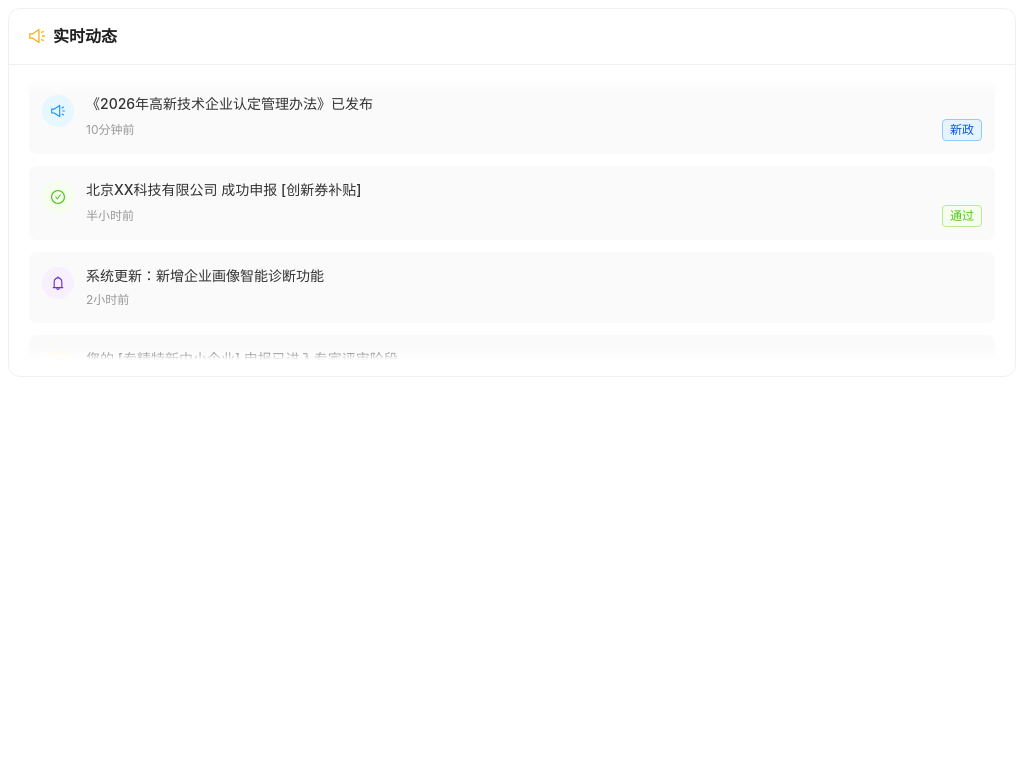
Test: SystemDynamicsSection › should open modal when clicking an item
The image size is (1024, 768).
# Click the first item
Click the text "《2026年高新技术企业认定管理办法》已发布": (230, 104) [86, 95, 373, 112]
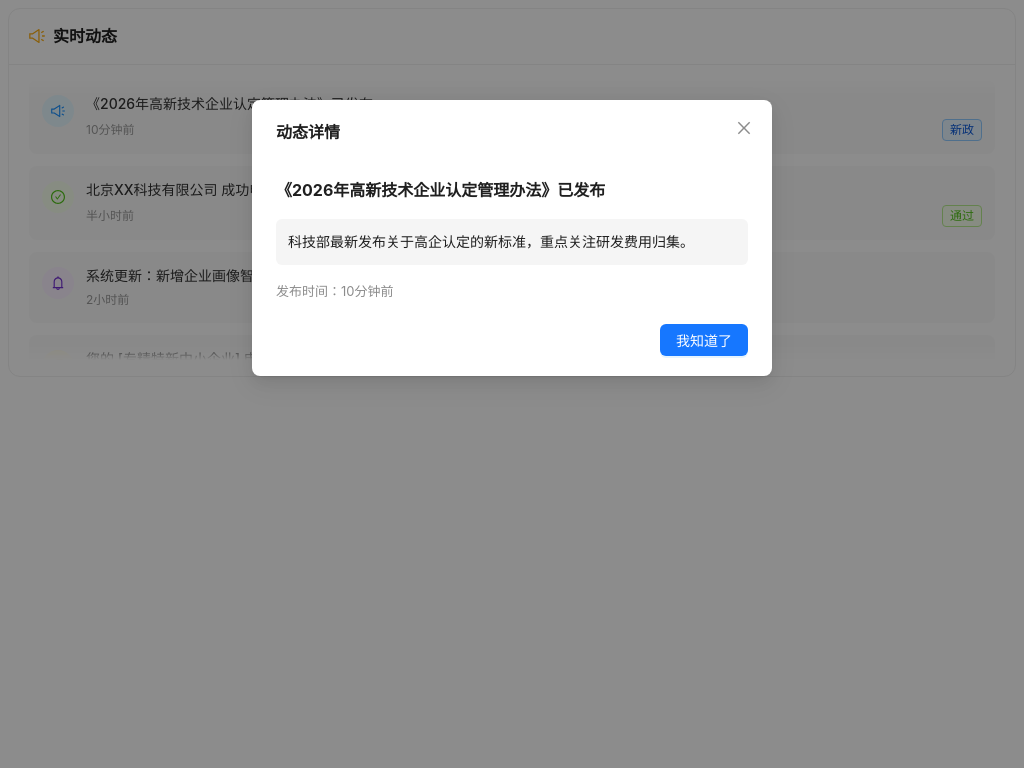
Expected: the text "动态详情" is shown, [276, 122, 340, 142]
Expected: the text "科技部最新发布关于高企认定的新标准，重点关注研发费用归集。" is shown, [276, 219, 748, 265]
